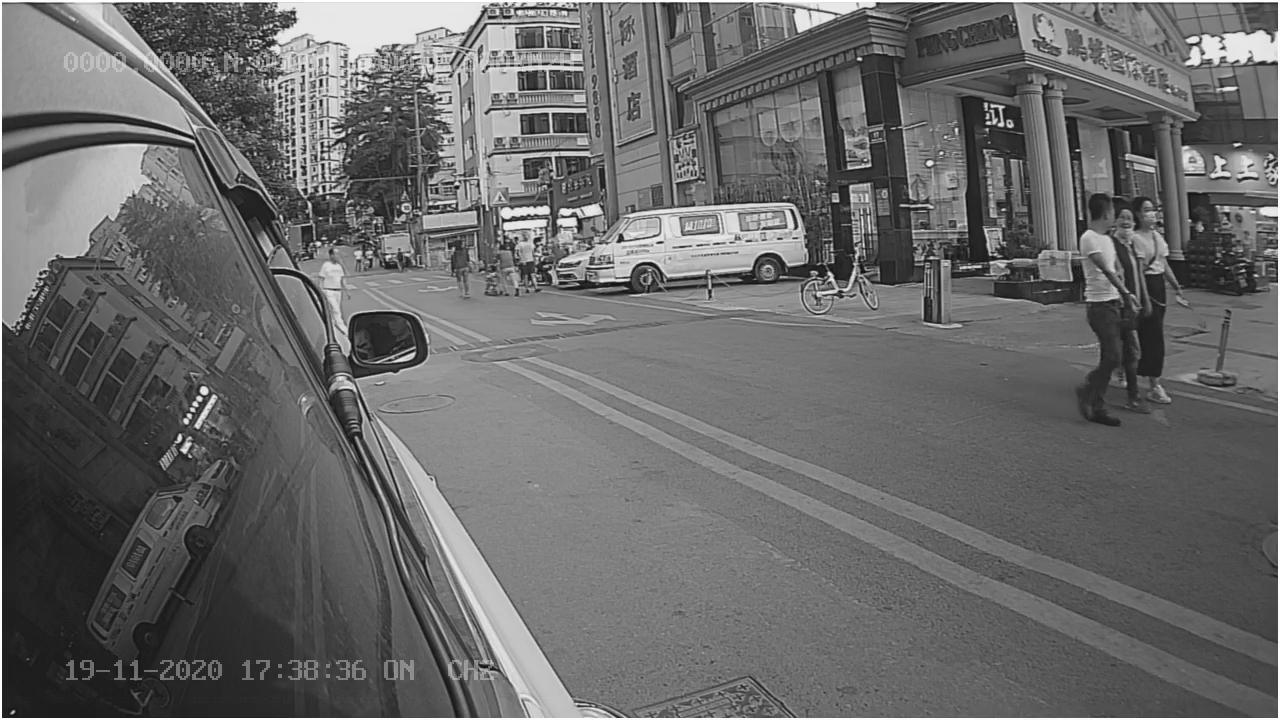person: (1064, 184, 1146, 427)
